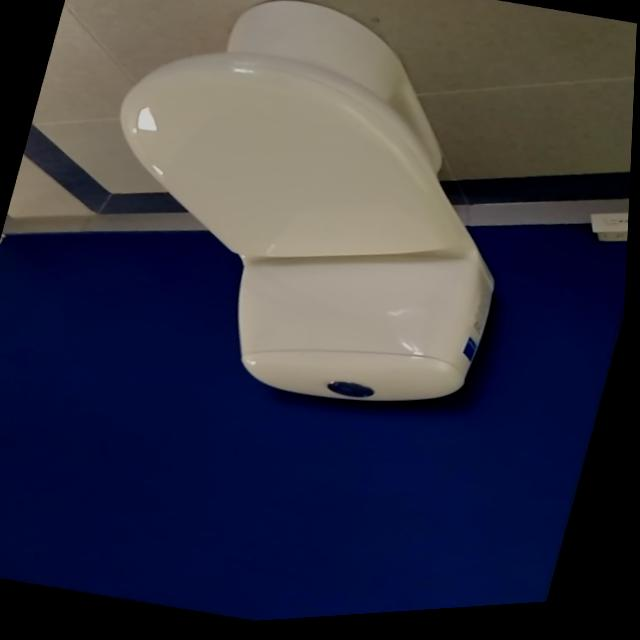toilet: (52, 0, 566, 449)
